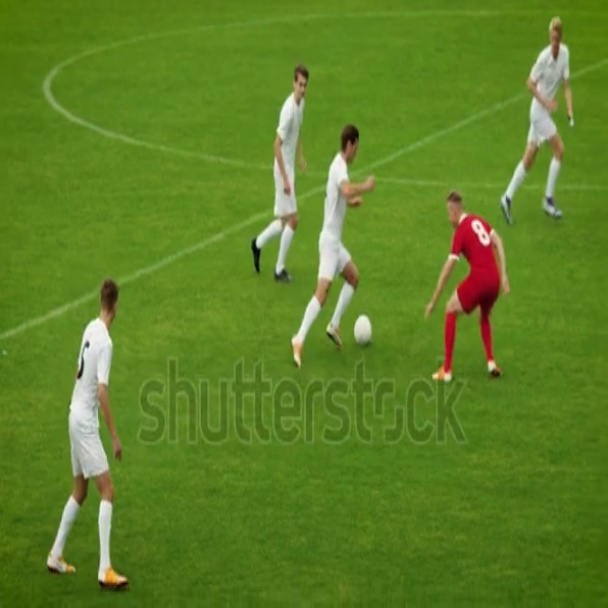ball: (356, 312, 371, 346)
